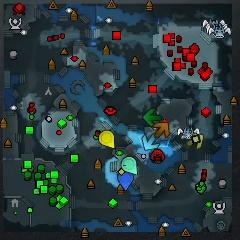p1: (118, 170, 134, 191)
p2: (122, 157, 138, 175)
p4: (100, 130, 115, 148)
x2: (186, 134, 204, 149)
x3: (142, 134, 159, 150)
x4: (143, 108, 162, 126)
x5: (153, 122, 170, 137)
